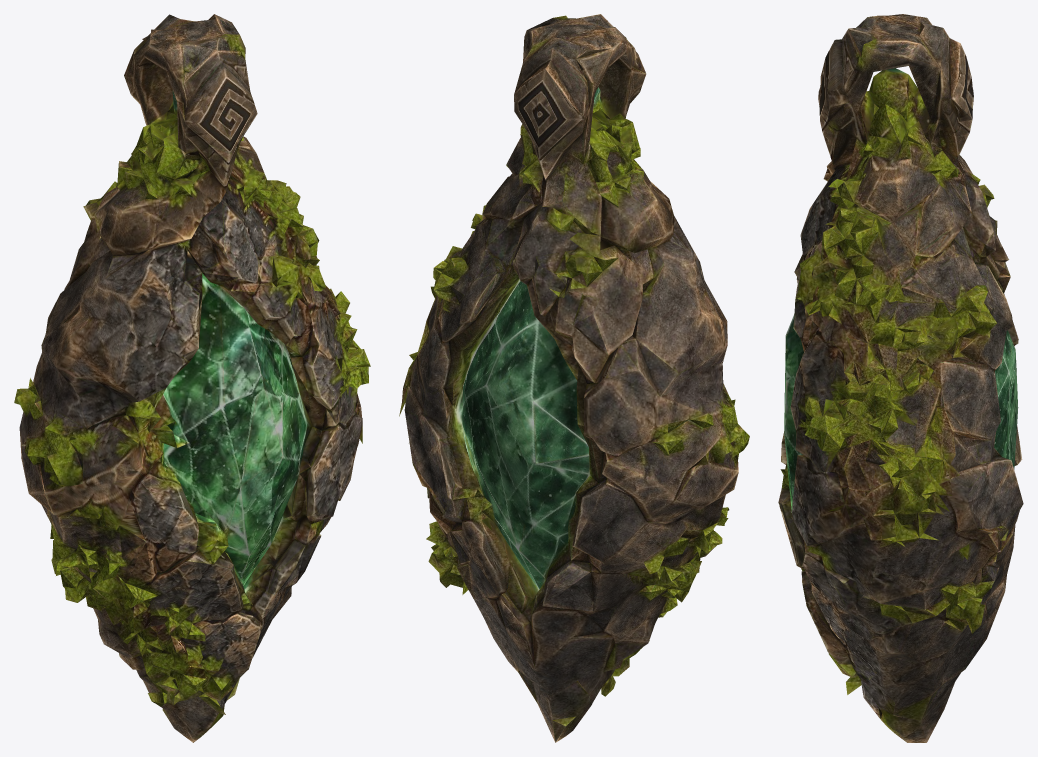
Rendered from set-earth-amulet.glb.
The picture shows the model from 3 angles, left to right: view 1: azimuth 30°, elevation 25°; view 2: azimuth 150°, elevation 25°; view 3: azimuth 270°, elevation 25°; orthographic projection.
Parts seen in each view (by area): view 1: Motion_Control; view 2: Motion_Control; view 3: Motion_Control.
Boxes of the visible parts, bbox=[...] form: Motion_Control: bbox=[14, 14, 370, 742]; Motion_Control: bbox=[399, 14, 749, 742]; Motion_Control: bbox=[778, 14, 1023, 742].
Size of the model in its own units: 0.9547 by 2 by 0.6221.
Materials: 1 (1 with a texture image).
